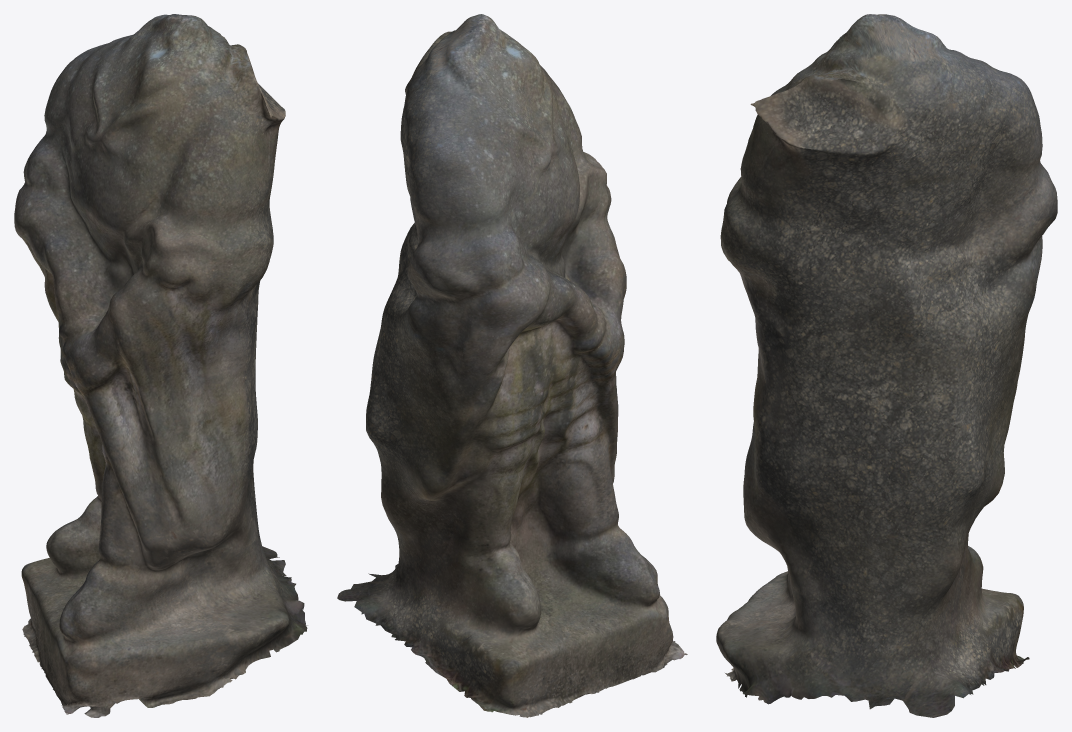
The model's file is statue - tomb_of_king_seongdeok_12zodiac_animal_deities6.glb.
The picture shows the model from 3 angles, left to right: view 1: azimuth 30°, elevation 25°; view 2: azimuth 150°, elevation 25°; view 3: azimuth 270°, elevation 25°; orthographic projection. The views are drawn at different scales.
Parts seen in each view (by area): view 1: Object_2; view 2: Object_2; view 3: Object_2.
Part boxes in pixels (left/top/right/bottom): Object_2: left=14, top=14, right=307, bottom=717; Object_2: left=337, top=14, right=687, bottom=717; Object_2: left=716, top=14, right=1057, bottom=717.
Size of the model in its own units: 0.5085 by 1.11 by 0.4922.
Materials: 1 (1 with a texture image).
